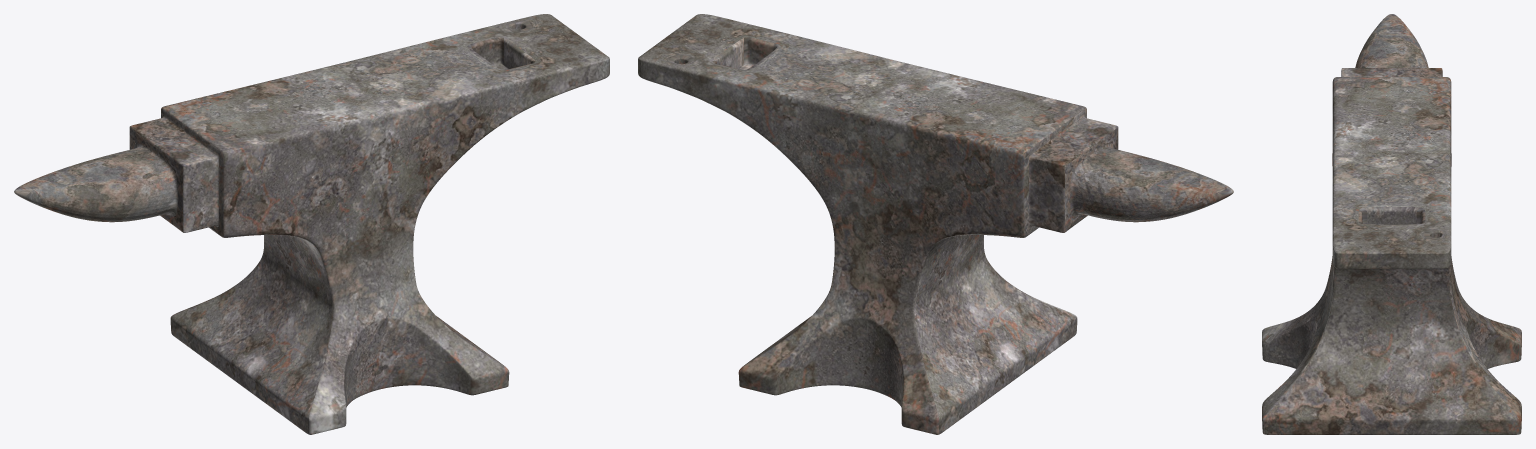
File: anvil1.fbx
3 views of the same model, side by side, from view 1: azimuth 30°, elevation 25°; view 2: azimuth 150°, elevation 25°; view 3: azimuth 270°, elevation 25° (orthographic). The views are drawn at different scales.
Parts seen in each view (by area): view 1: Anvil; view 2: Anvil; view 3: Anvil.
Part boxes in pixels (x1,y1,x2,y2): Anvil: (14,14,609,434); Anvil: (638,14,1233,434); Anvil: (1262,14,1521,434).
Bounding box in the file's own units: 537 × 243 × 231.
